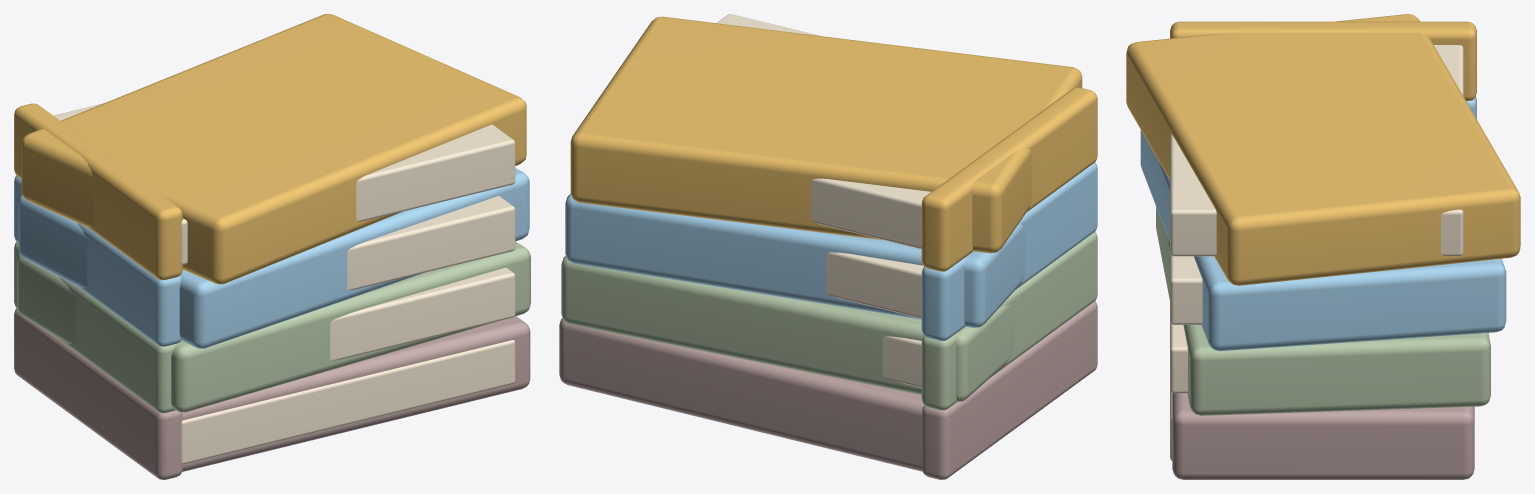
Rendered from booksPile.glb.
3 renders of one model, left to right at view 1: azimuth 30°, elevation 25°; view 2: azimuth 150°, elevation 25°; view 3: azimuth 270°, elevation 25°, orthographic. The views are drawn at different scales.
Visible parts, largest first — view 1: Book cover.003, Book cover.002, Book cover.001, Pages, Spine, Spine.003, Pages.003, Pages.001, Book cover, Pages.002, Spine.001, Spine.002; view 2: Book cover.003, Book cover.001, Book cover, Book cover.002, Spine, Spine.003, Spine.001, Spine.002, Pages.003, Pages.002, Pages.001; view 3: Book cover.003, Book cover.002, Book cover.001, Book cover, Pages.003, Spine.003, Pages.002, Pages.001.
Part boxes in pixels (bbox=[...]): Book cover.003: bbox=[21, 14, 526, 284]; Book cover.002: bbox=[18, 168, 529, 348]; Book cover.001: bbox=[17, 241, 530, 412]; Pages: bbox=[181, 340, 515, 464]; Spine: bbox=[14, 308, 182, 479]; Spine.003: bbox=[14, 103, 182, 280]; Pages.003: bbox=[53, 103, 515, 265]; Pages.001: bbox=[330, 267, 515, 360]; Book cover: bbox=[182, 316, 530, 471]; Pages.002: bbox=[347, 196, 515, 290]; Spine.001: bbox=[14, 242, 177, 413]; Spine.002: bbox=[14, 175, 181, 346]; Book cover.003: bbox=[570, 16, 1082, 253]; Book cover.001: bbox=[561, 256, 1013, 401]; Book cover: bbox=[559, 318, 924, 471]; Book cover.002: bbox=[565, 193, 1025, 327]; Spine: bbox=[922, 301, 1097, 479]; Spine.003: bbox=[921, 87, 1097, 271]; Spine.001: bbox=[921, 232, 1097, 410]; Spine.002: bbox=[921, 162, 1097, 340]; Pages.003: bbox=[716, 14, 930, 249]; Pages.002: bbox=[826, 252, 923, 318]; Pages.001: bbox=[882, 336, 921, 387]; Book cover.003: bbox=[1126, 14, 1520, 285]; Book cover.002: bbox=[1140, 130, 1506, 351]; Book cover.001: bbox=[1156, 207, 1490, 415]; Book cover: bbox=[1172, 393, 1474, 479]; Pages.003: bbox=[1170, 45, 1463, 256]; Spine.003: bbox=[1170, 21, 1476, 100]; Pages.002: bbox=[1170, 253, 1202, 324]; Pages.001: bbox=[1170, 321, 1187, 393].
Size of the model in its own units: 1.12 by 0.69 by 0.8863.
